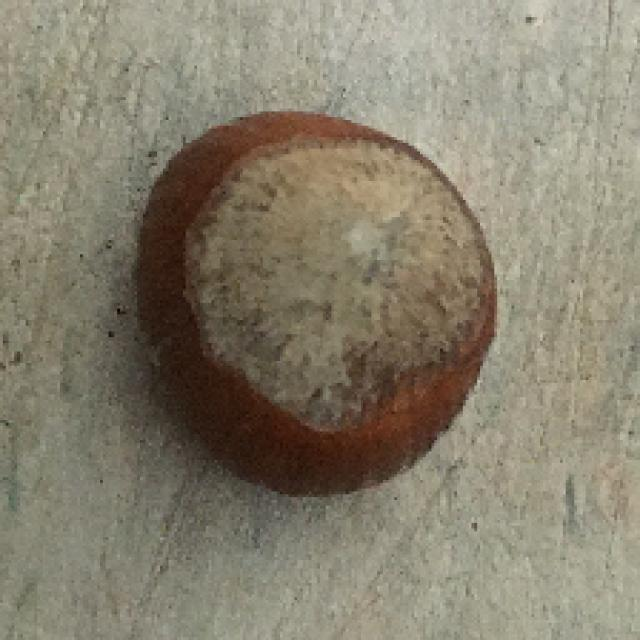QualityHazelnut: (133, 106, 504, 501)
